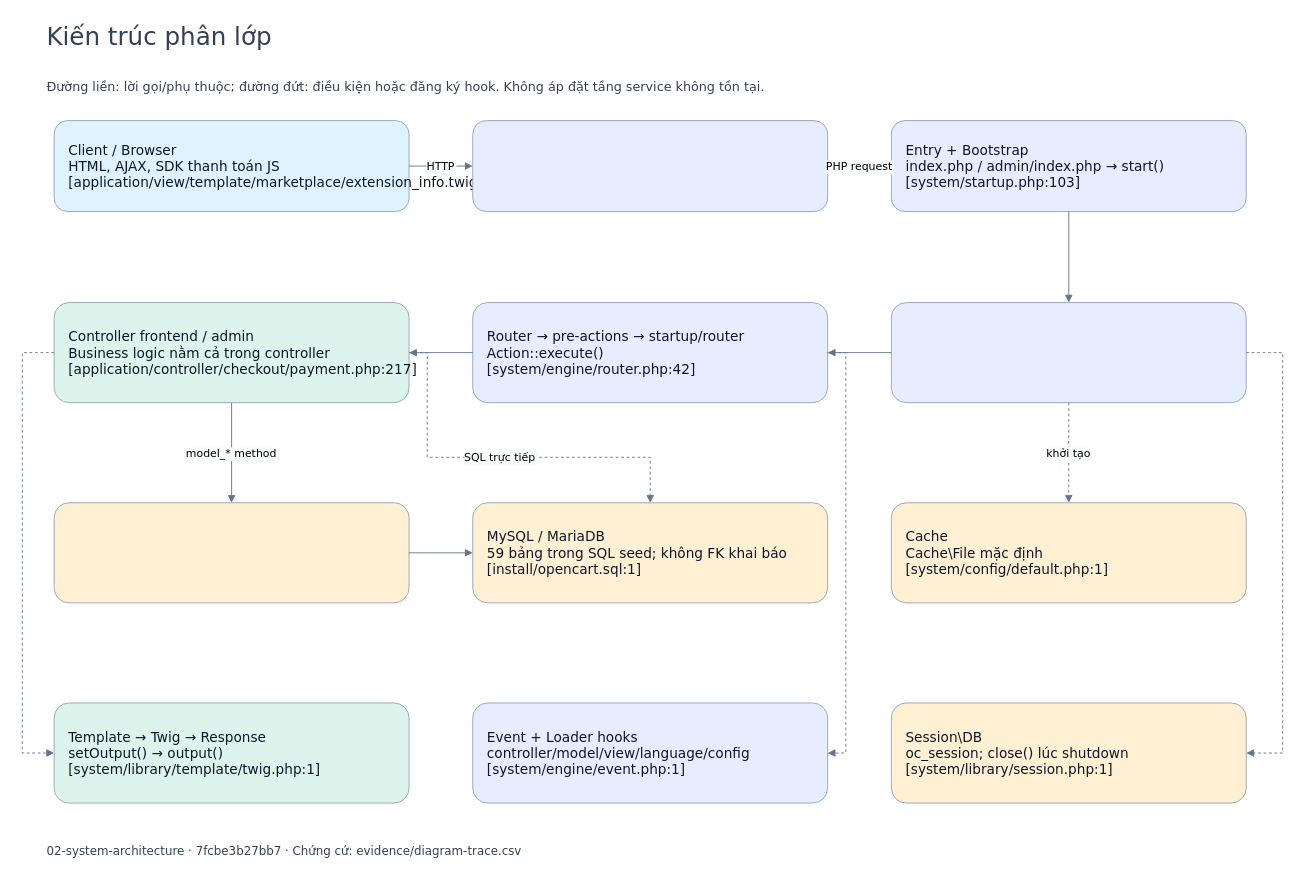
Image size: 1306x880. Some labels were removed from this diagram. The box of each missing label's shape, as (x1, y1, x2, y2) in pixels:
Loader → Proxy → Model SQL trực tiếp, không ORM [system/engine/loader.php:239]: (53, 502, 409, 603)
Registry + Config + DB + Session framework.php [system/framework.php:1]: (890, 302, 1246, 403)
Web Server .htaccess rewrite / static assets [.htaccess:1]: (472, 120, 828, 212)
